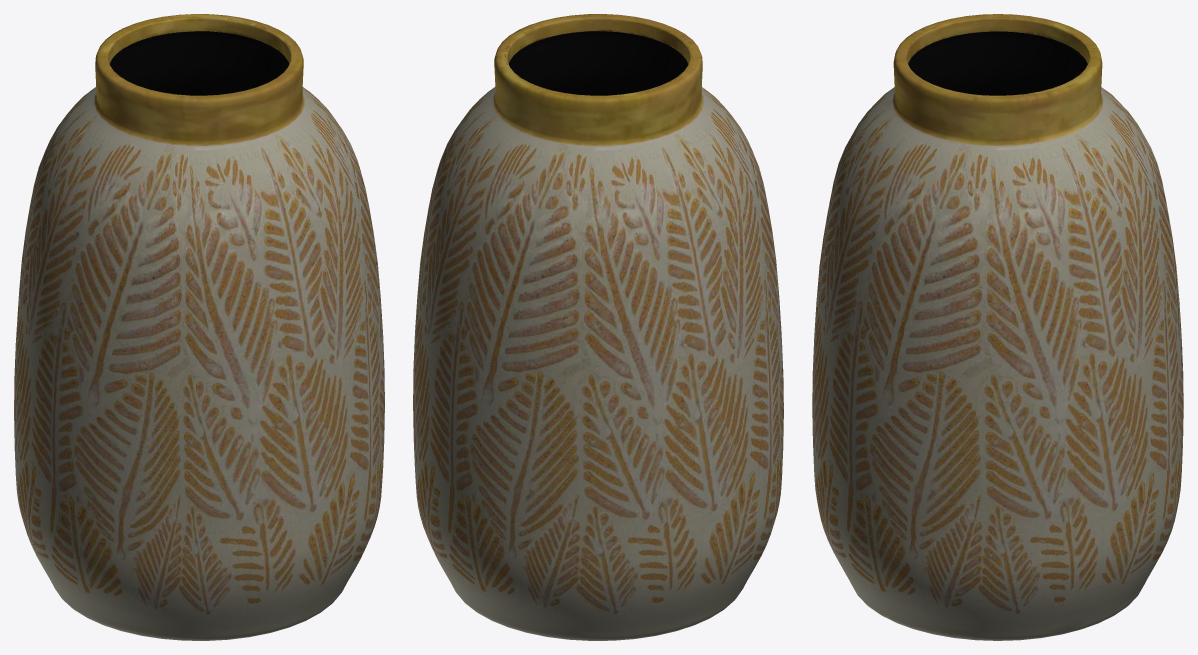
3 views of the same model, side by side, from view 1: azimuth 30°, elevation 25°; view 2: azimuth 150°, elevation 25°; view 3: azimuth 270°, elevation 25° (orthographic).
Parts seen in each view (by area): view 1: RootNode; view 2: RootNode; view 3: RootNode.
Part boxes in pixels (bbox=[...]): RootNode: bbox=[14, 14, 384, 640]; RootNode: bbox=[413, 14, 783, 640]; RootNode: bbox=[812, 14, 1183, 640].
Bounding box in the file's own units: 0.1722 × 0.2696 × 0.1722.
Materials: 1 (1 with a texture image).
